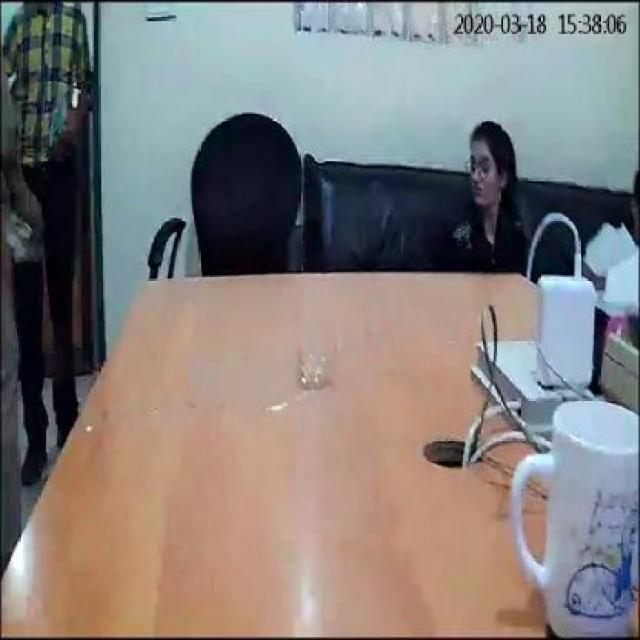spill: (198, 347, 332, 418)
